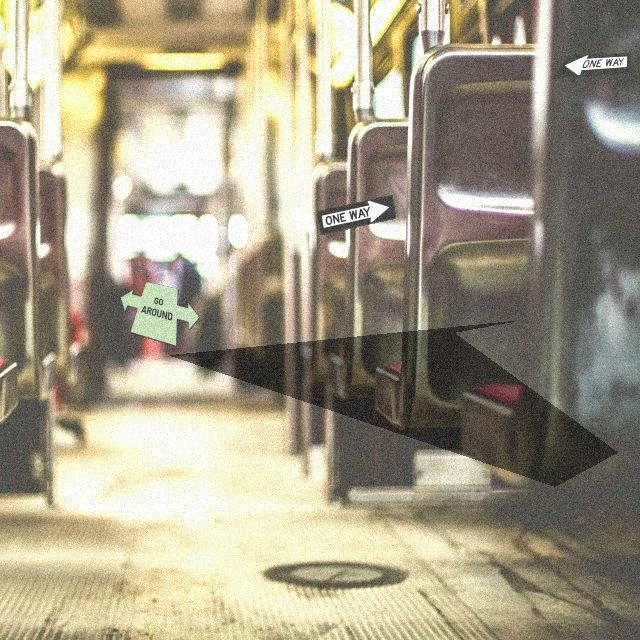GO_AROUND: (120, 281, 200, 347)
ONE_WAY_ left: (551, 52, 631, 79)
ONE_WAY_ right: (316, 194, 396, 235)
